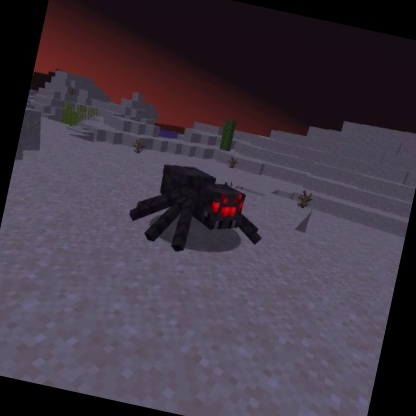spider: (120, 152, 276, 272)
